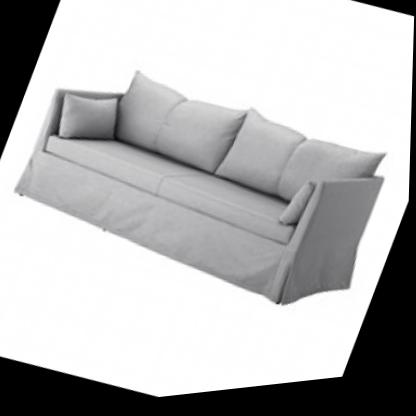Sofa: (0, 0, 416, 378)
